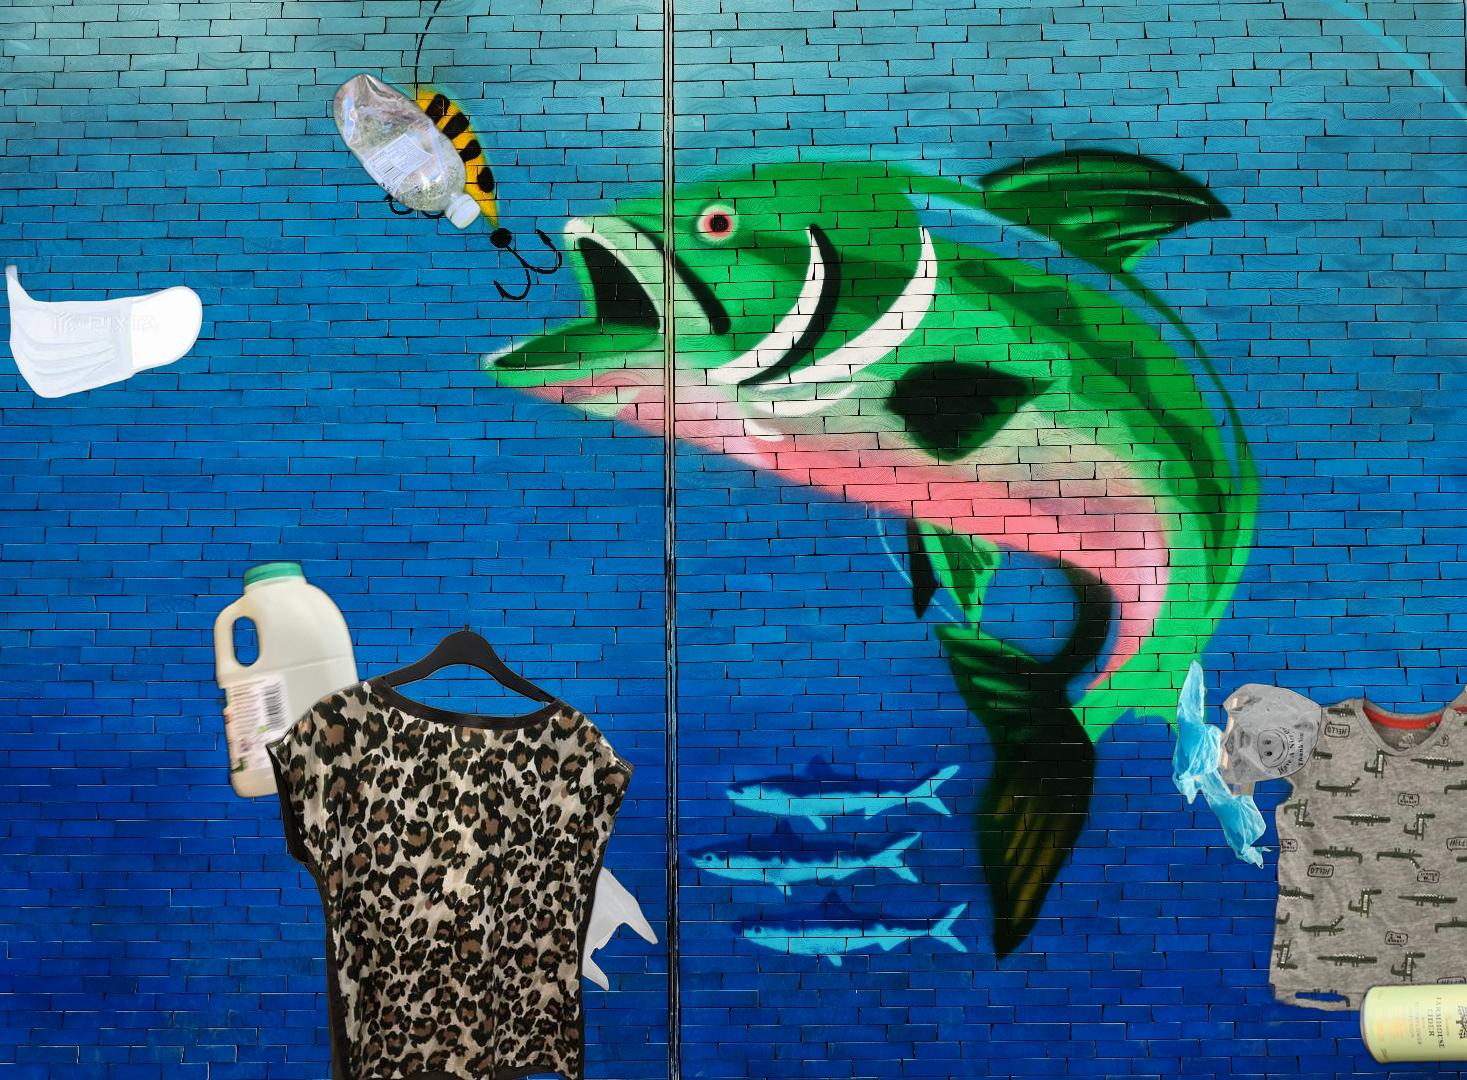clothes: (261, 594, 639, 1080), (1227, 673, 1467, 1023)
metal-cans: (1357, 976, 1467, 1080)
plastic-bag: (1167, 656, 1325, 873), (510, 845, 661, 995)
plastic-bottles: (208, 556, 377, 804), (328, 67, 485, 235)
trash: (3, 262, 206, 401)
